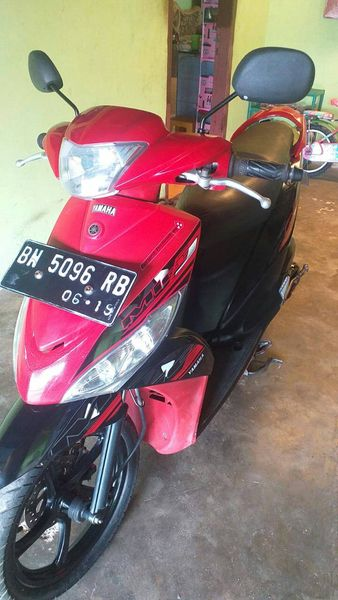plate: (1, 225, 141, 333)
